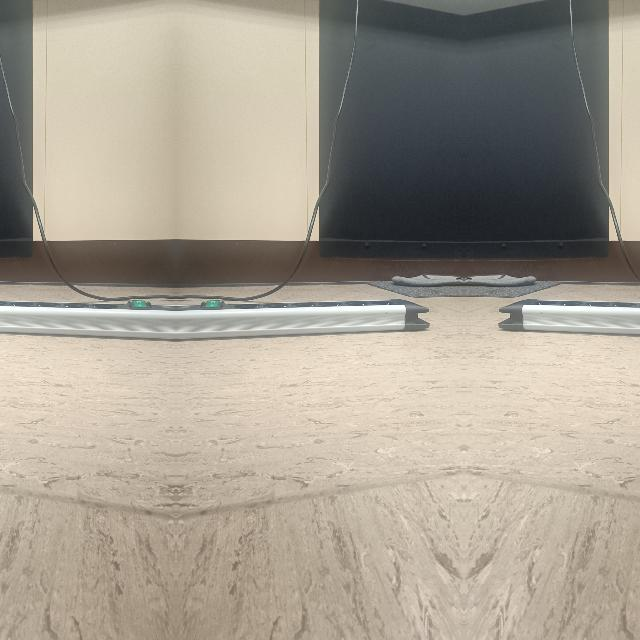obstacle: (175, 296, 433, 334), (0, 295, 175, 334), (494, 295, 640, 334)
